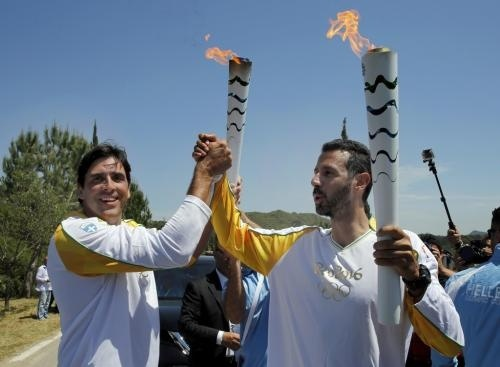fire: (325, 6, 372, 52), (201, 31, 240, 61)
